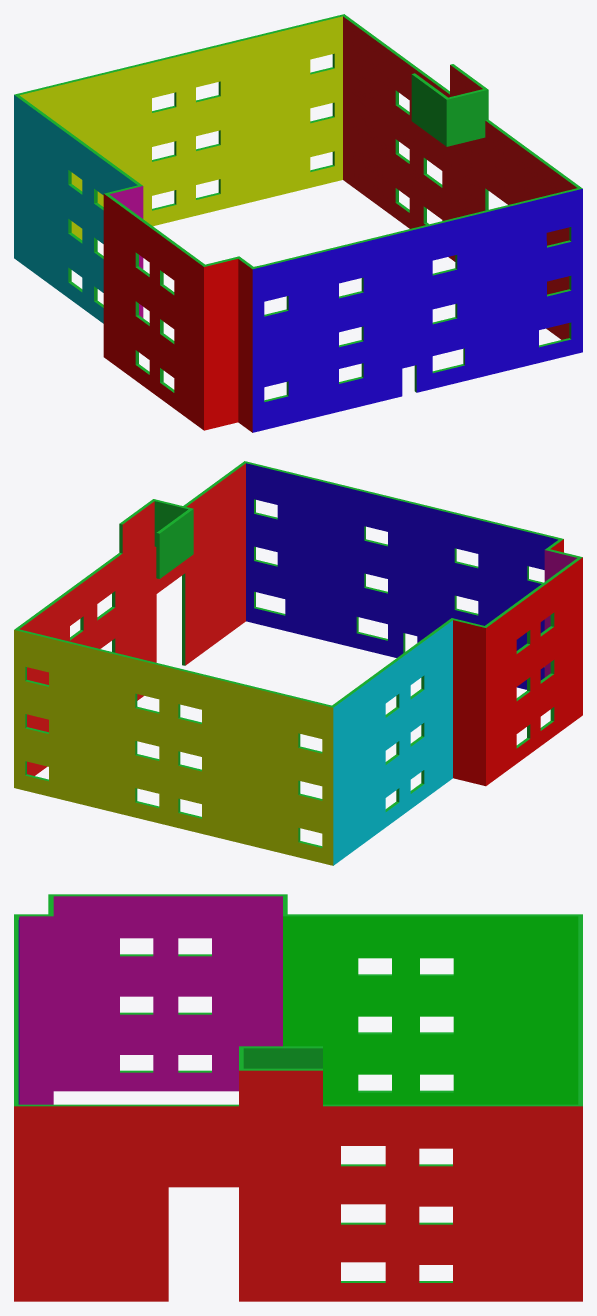
File: BankUpperFloorsOuterWall.FBX
3 renders of one model, top to bottom at view 1: azimuth 30°, elevation 25°; view 2: azimuth 150°, elevation 25°; view 3: azimuth 270°, elevation 25°, orthographic. The views are drawn at different scales.
Visible parts, largest first — view 1: Bank Upper Floors Outer Wall; view 2: Bank Upper Floors Outer Wall; view 3: Bank Upper Floors Outer Wall.
Boxes of the visible parts, left/top/right/bottom form: Bank Upper Floors Outer Wall: left=14, top=14, right=582, bottom=432; Bank Upper Floors Outer Wall: left=14, top=461, right=582, bottom=865; Bank Upper Floors Outer Wall: left=14, top=894, right=582, bottom=1301.
Bounding box in the file's own units: 2718 × 1379 × 3082.
